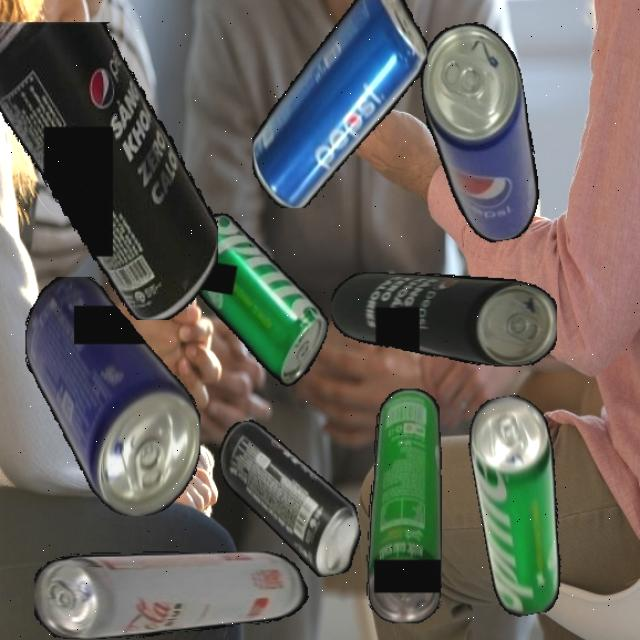debris: (0, 21, 218, 320), (24, 276, 200, 516), (252, 0, 428, 208), (412, 17, 548, 249), (170, 209, 343, 391), (215, 405, 366, 590), (462, 391, 580, 619), (34, 550, 311, 639), (330, 272, 557, 366), (365, 388, 442, 624)
